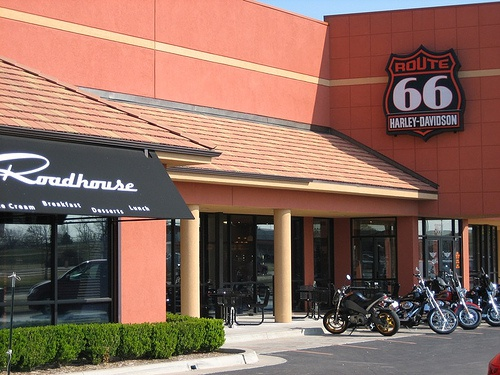non-vehicle: (390, 266, 459, 336), (323, 285, 400, 335), (425, 271, 482, 332), (473, 266, 500, 328)
